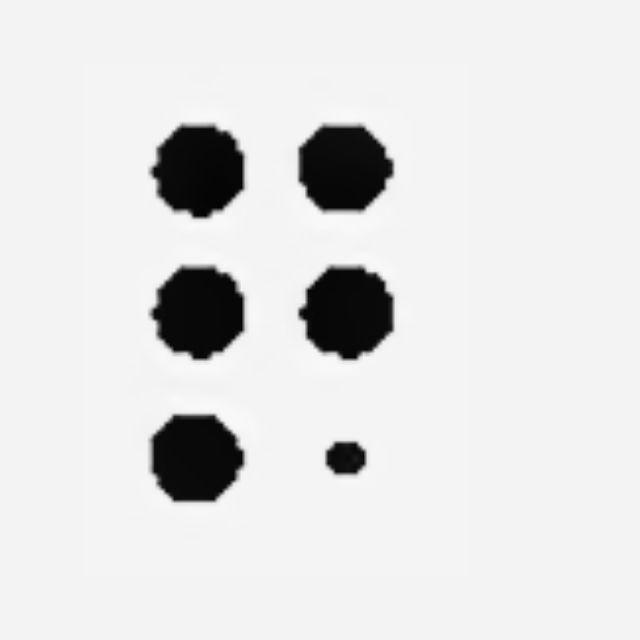kailan: (147, 124, 394, 505)
